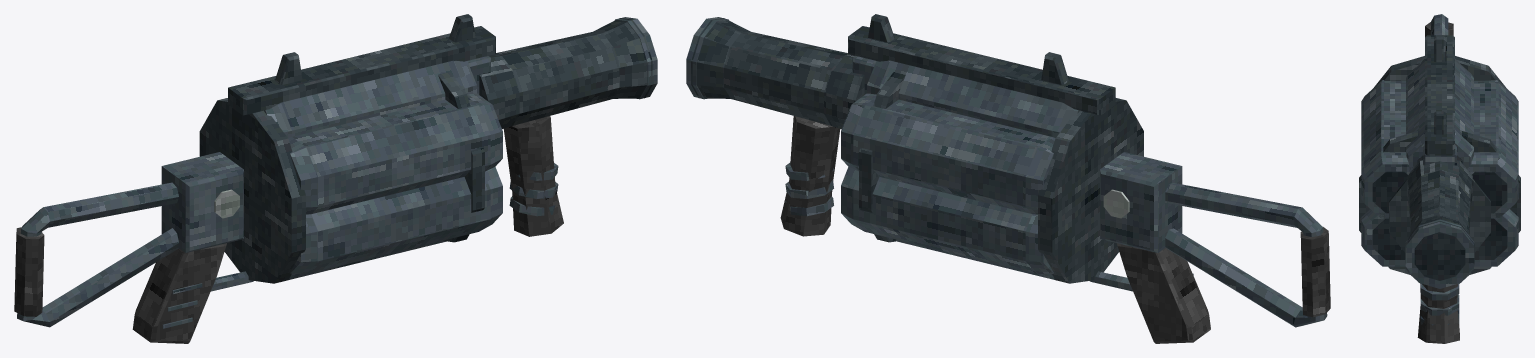
The model's file is 13_launcher_gm.glb.
3 renders of one model, left to right at view 1: azimuth 30°, elevation 25°; view 2: azimuth 150°, elevation 25°; view 3: azimuth 270°, elevation 25°, orthographic. The views are drawn at different scales.
Visible parts, largest first — view 1: 13_launcher_gm; view 2: 13_launcher_gm; view 3: 13_launcher_gm.
Boxes of the visible parts, left/top/right/bottom form: 13_launcher_gm: left=14, top=14, right=657, bottom=343; 13_launcher_gm: left=686, top=14, right=1330, bottom=343; 13_launcher_gm: left=1359, top=14, right=1520, bottom=343.
Size of the model in its own units: 0.6951 by 0.2725 by 0.1828.
1 material, 1 textured.
